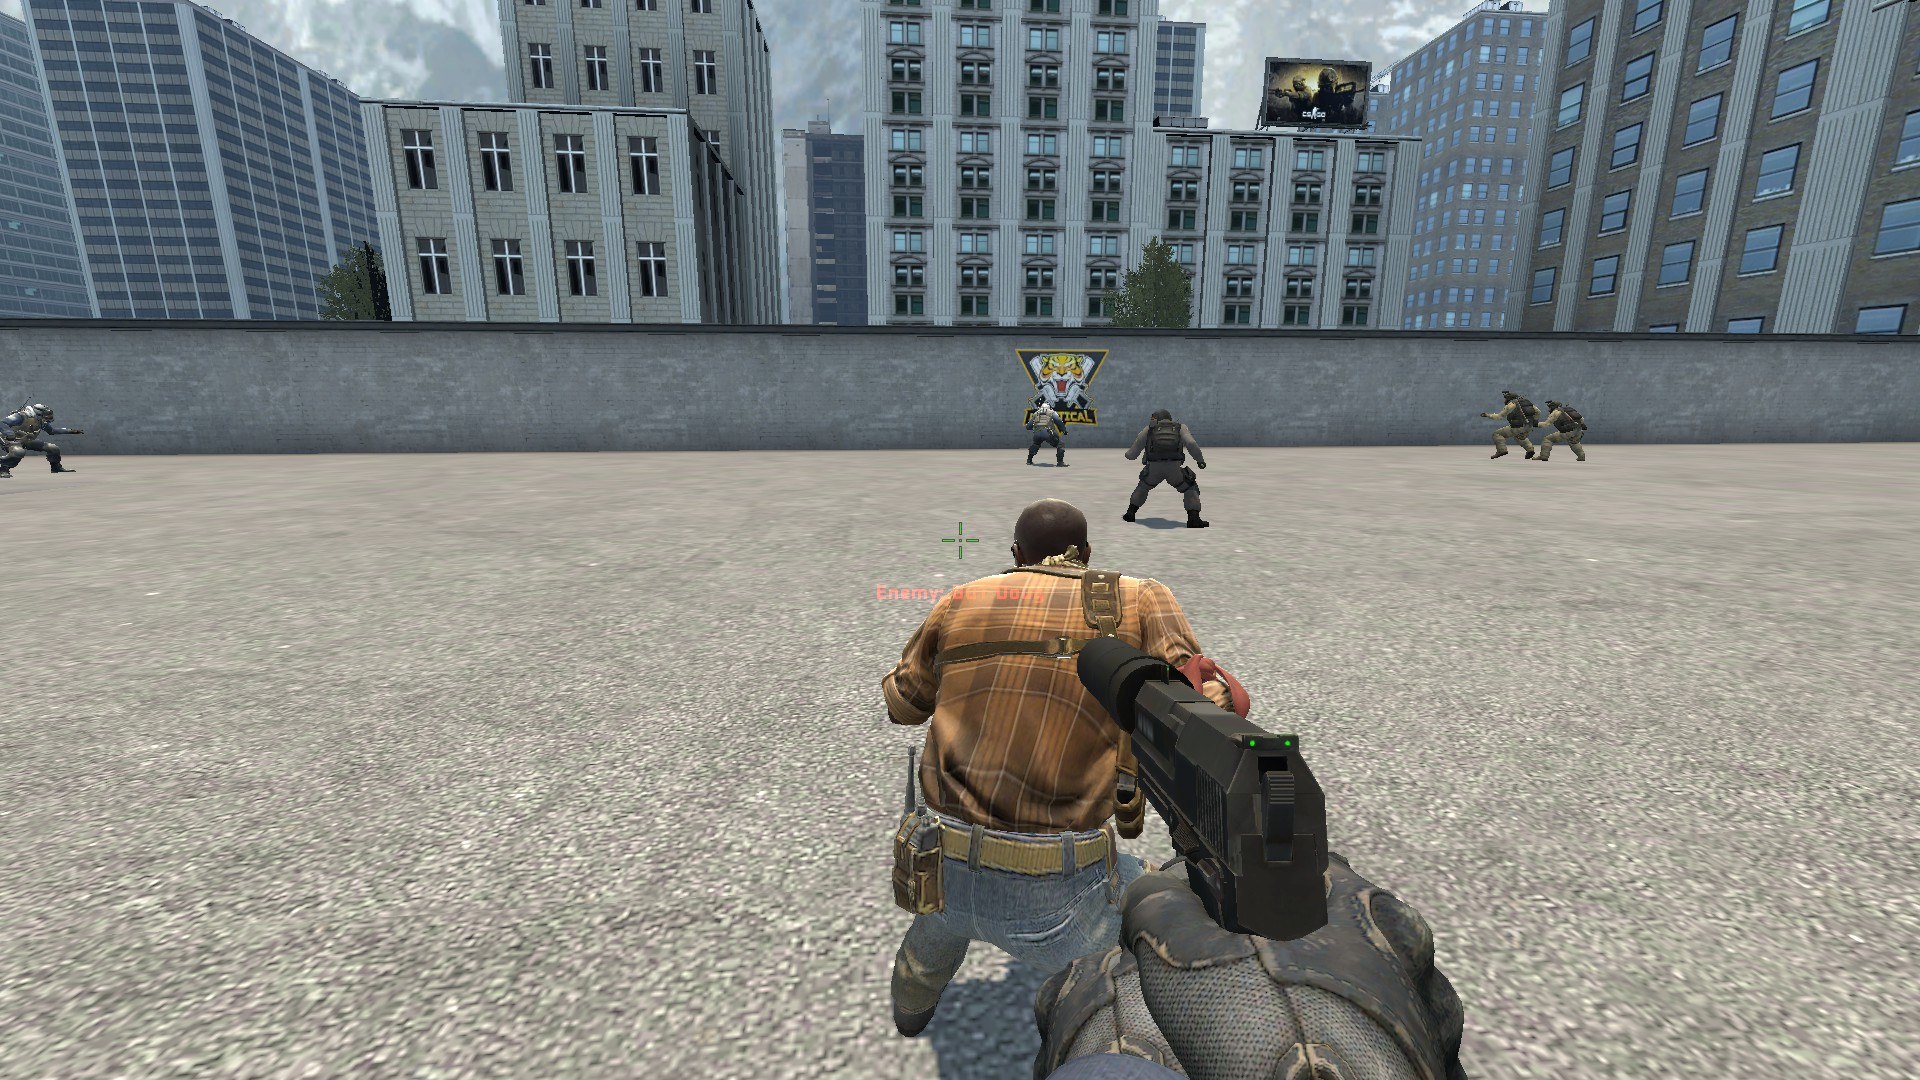ct: (1120, 407, 1218, 535)
ct head: (1143, 404, 1177, 434)
tr: (871, 496, 1254, 1049)
tr head: (1006, 492, 1100, 588)
